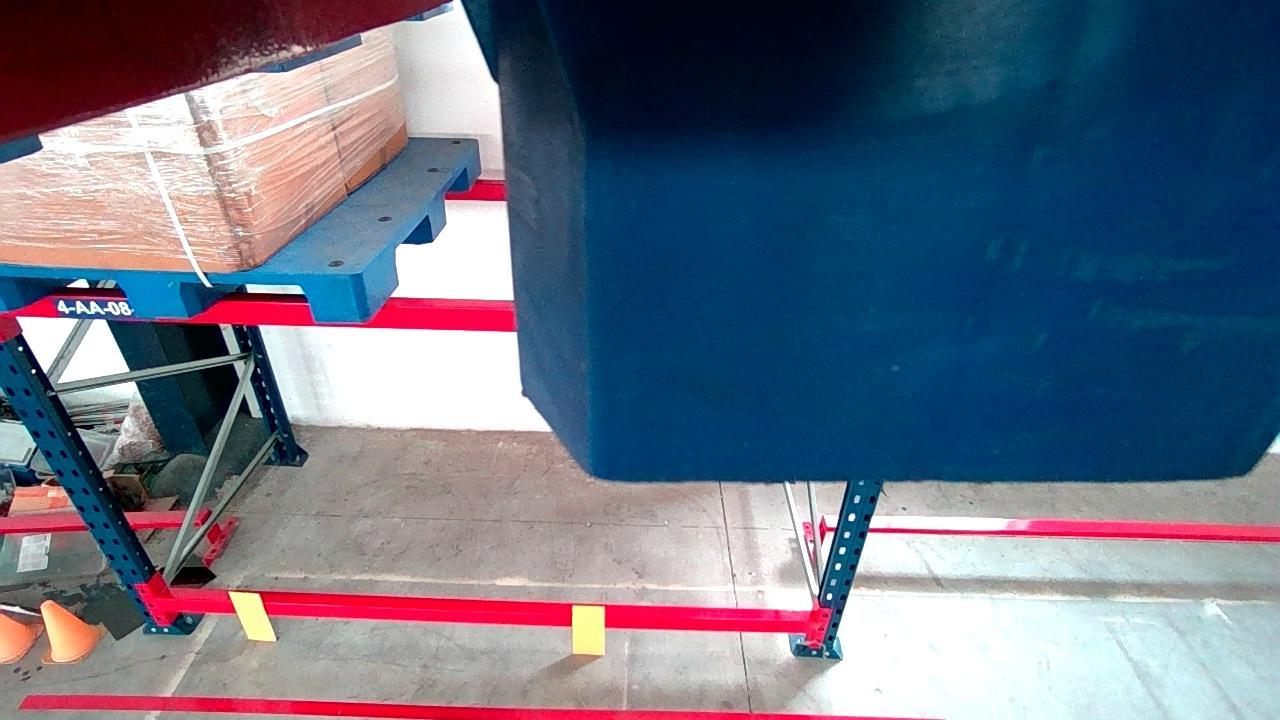h_rack: (158, 602, 811, 635), (15, 299, 511, 330)
orange_strip: (228, 593, 274, 639), (573, 605, 603, 656)
red_line: (15, 691, 896, 720)
small_pallet: (0, 266, 362, 322)
